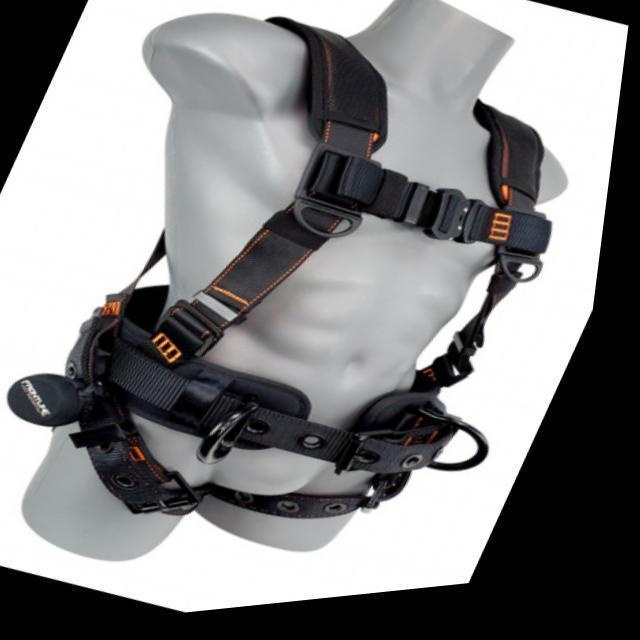Arnes_seguridad: (74, 15, 552, 524)
